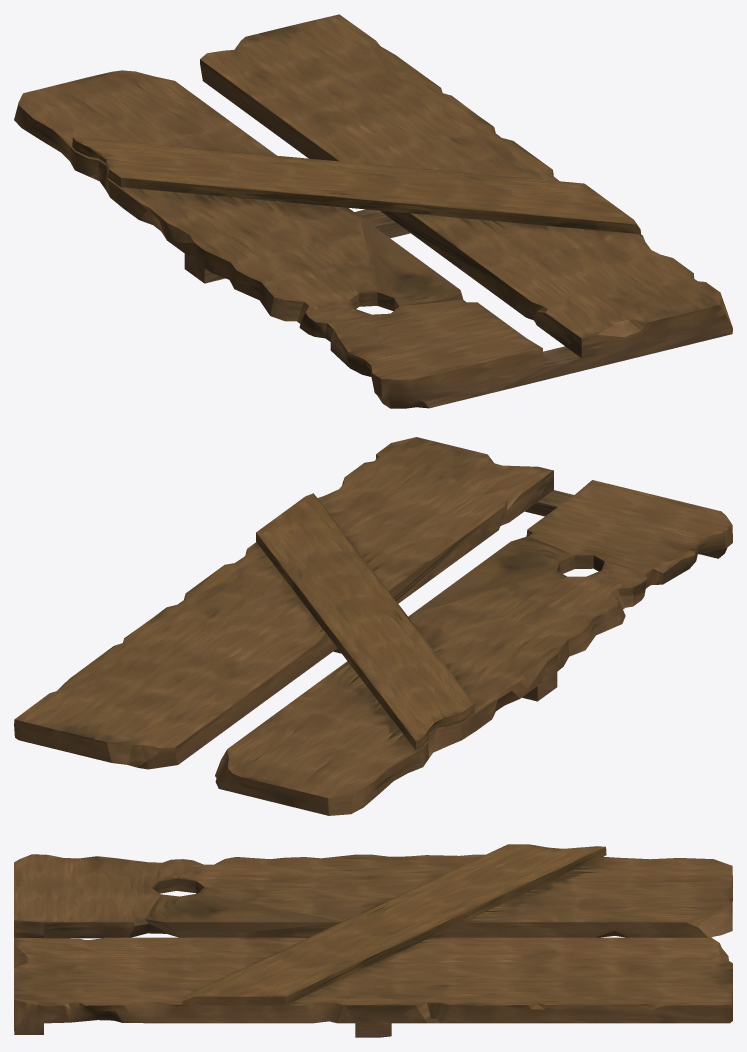
Rendered from tablas.fbx.
The picture shows the model from 3 angles, top to bottom: view 1: azimuth 30°, elevation 25°; view 2: azimuth 150°, elevation 25°; view 3: azimuth 270°, elevation 25°; orthographic projection. The views are drawn at different scales.
Visible parts, largest first — view 1: tablas; view 2: tablas; view 3: tablas.
Part boxes in pixels (bbox=[...]): tablas: bbox=[14, 14, 732, 408]; tablas: bbox=[14, 437, 732, 815]; tablas: bbox=[14, 844, 732, 1037].
Size of what is drawn, in the model's own units: 293 by 36.65 by 584.
1 material, 1 textured.
